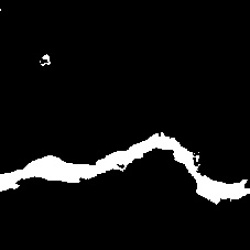crack: (2, 132, 247, 206)
pinhole: (40, 55, 51, 66)
